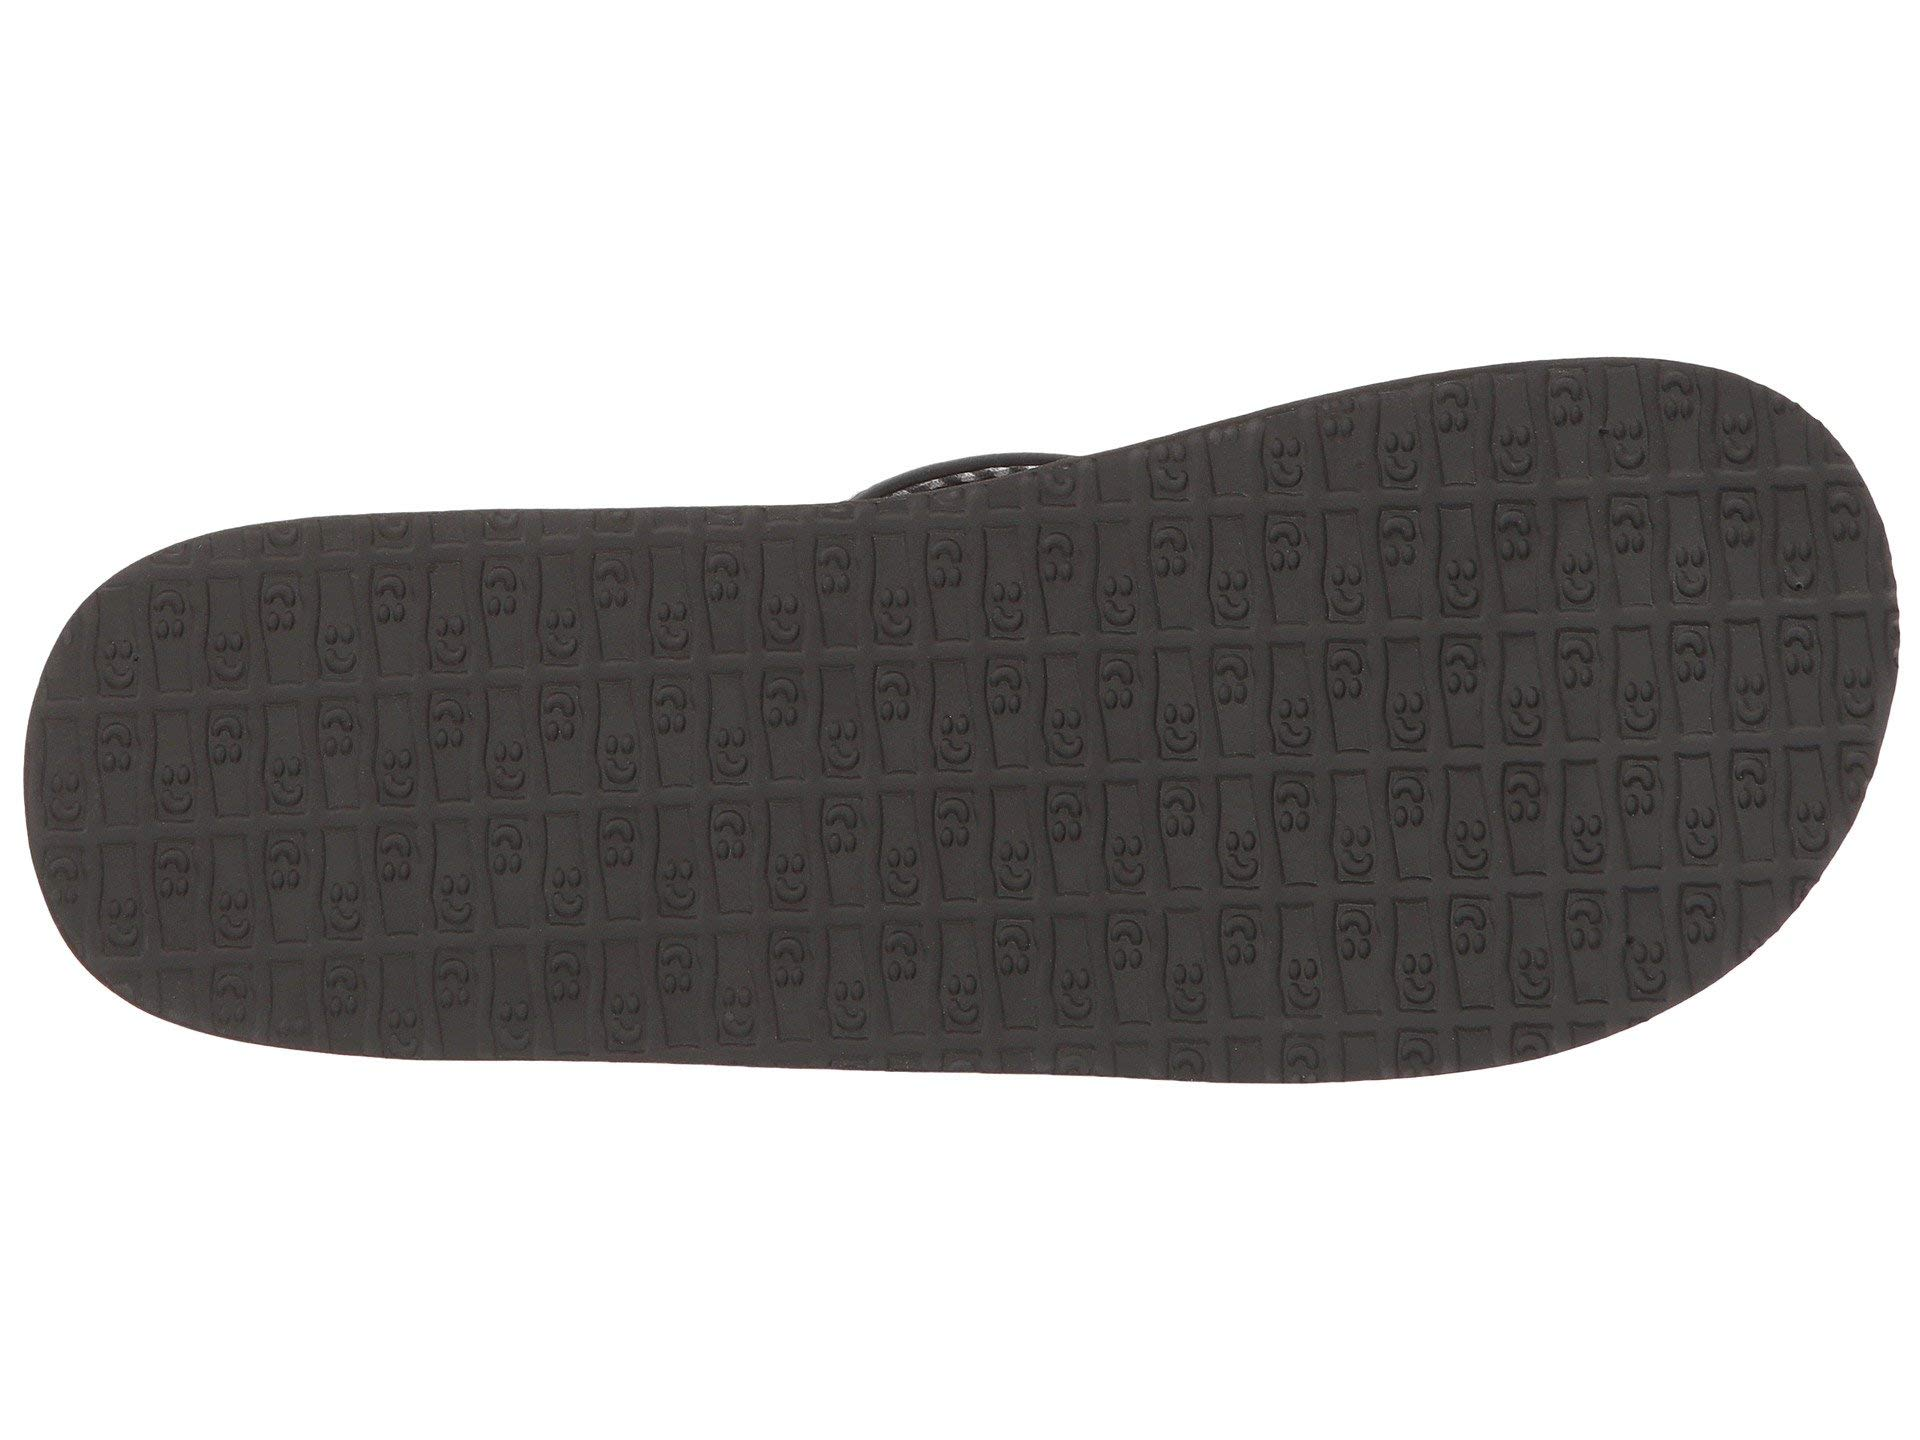circle: (221, 575, 1745, 936)
other: (221, 575, 1745, 936)
quad: (221, 575, 1745, 936)
